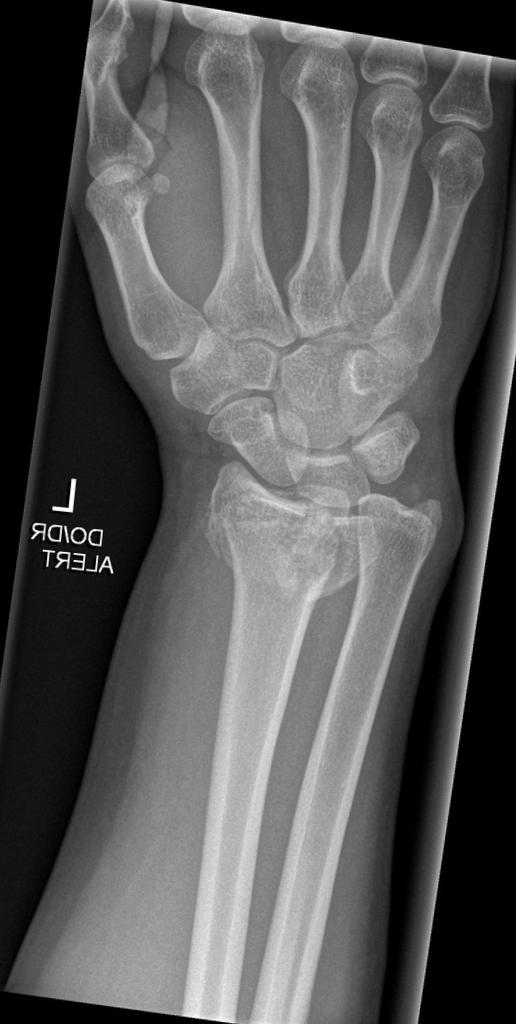line: (219, 502, 339, 540)
